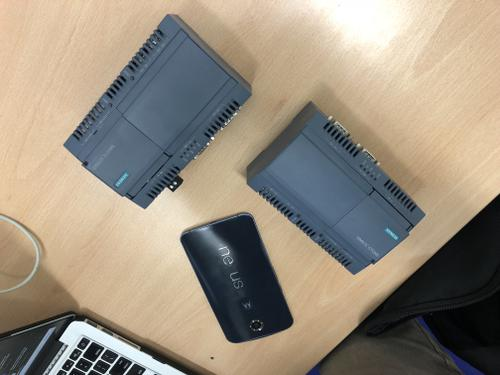device: (64, 15, 252, 210), (247, 101, 426, 276)
